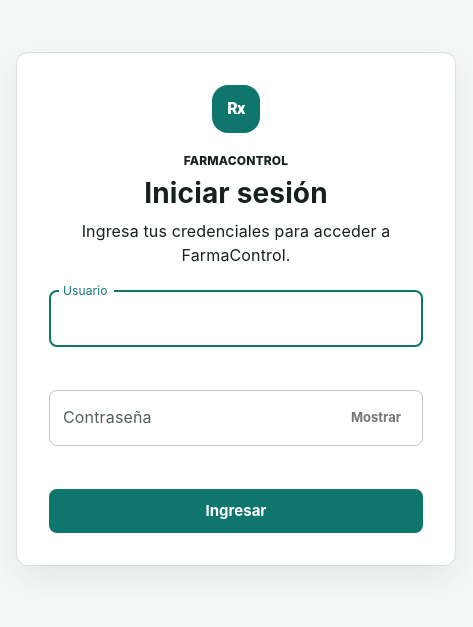
Scenario: flujo frontend de autenticación › muestra un error accesible ante credenciales incorrectas
This screenshot has width=473, height=627.
Expected: the heading "Iniciar sesión" is shown, x1=144 y1=176 x2=328 y2=210
Type "cajero" into the field labelled "Usuario". click: (236, 319)
box: x1=49 y1=291 x2=423 y2=347
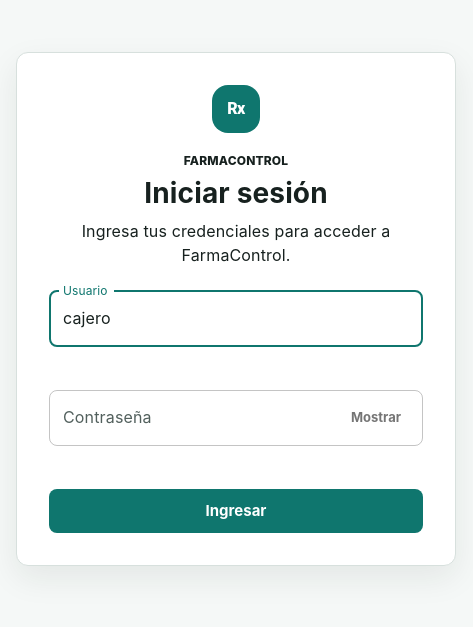
Type "Password#2026!" into the password field labelled "Contraseña". click: (192, 418)
box: x1=49 y1=390 x2=335 y2=446
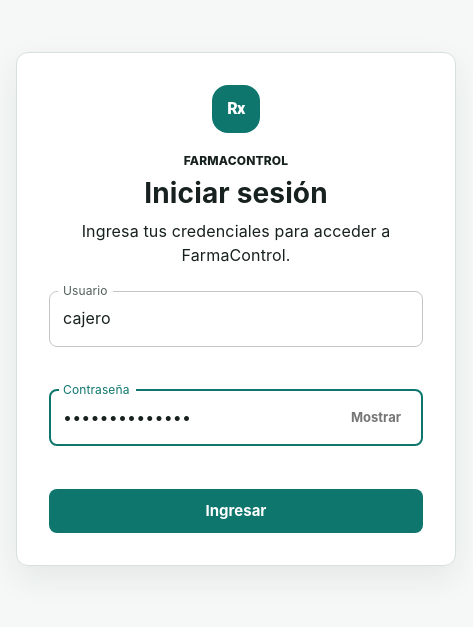
Click the button "Ingresar". click: (236, 511)
box: x1=49 y1=489 x2=423 y2=533
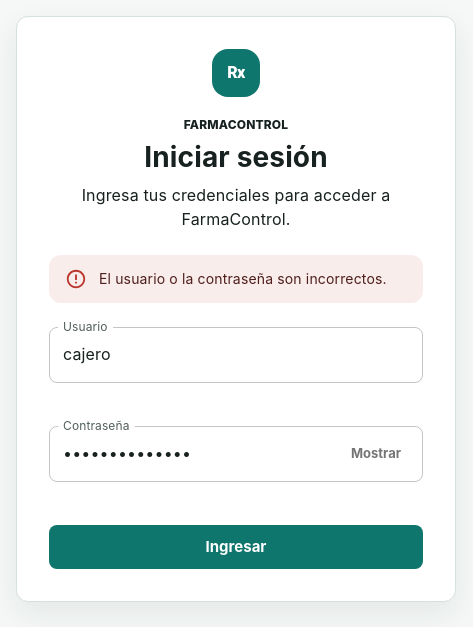
Expected: the message reads "El usuario o la contraseña son incorrectos.", x1=99 y1=270 x2=387 y2=287
